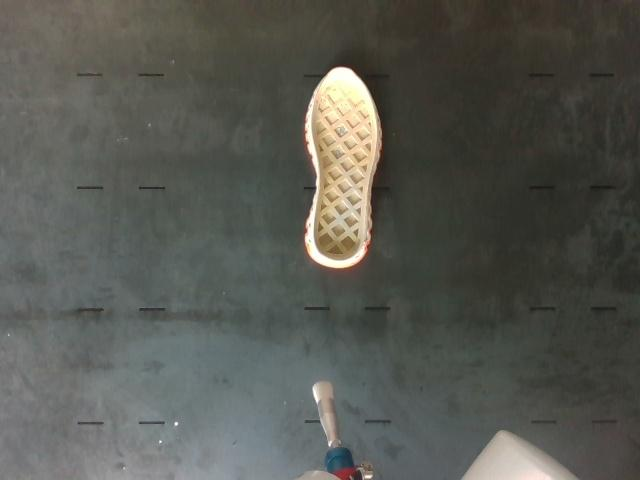shoes: (311, 67, 377, 261)
